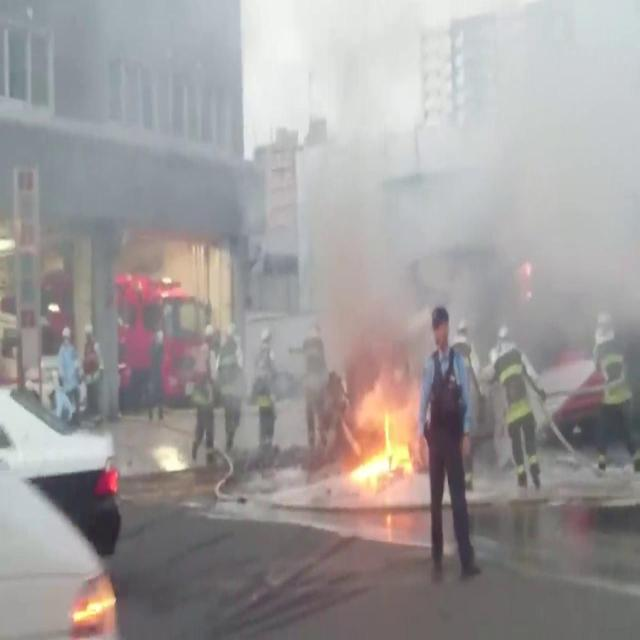Fire: (349, 409, 411, 481)
